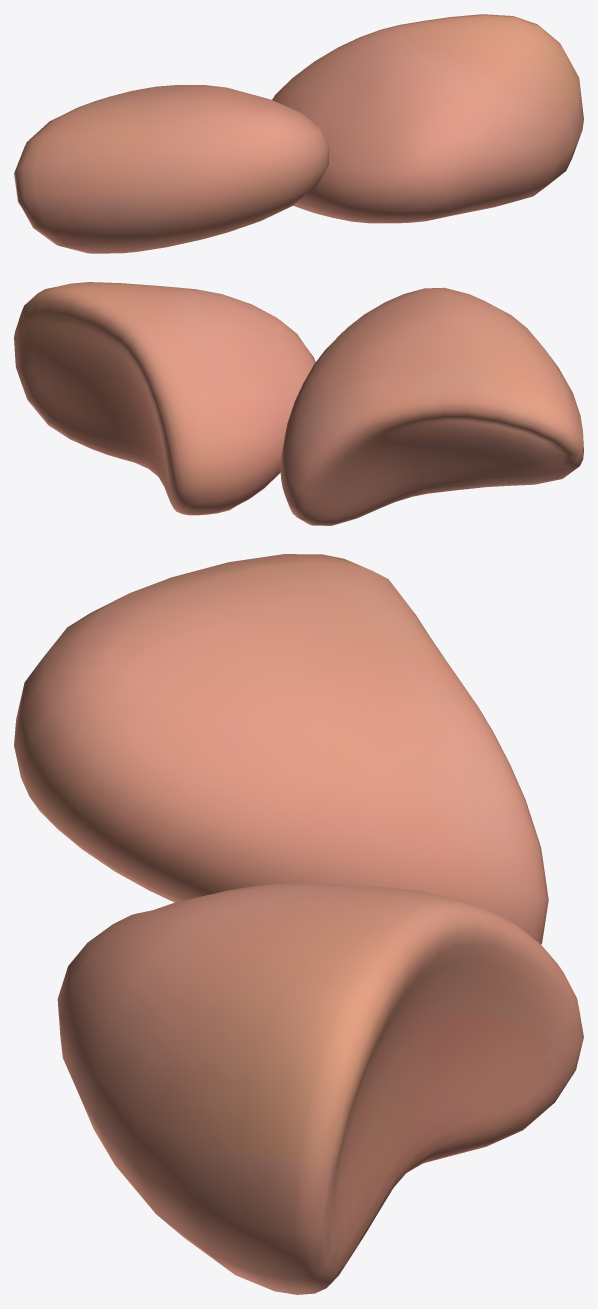
File: Adrenal_Glands.fbx
The picture shows the model from 3 angles, top to bottom: view 1: azimuth 30°, elevation 25°; view 2: azimuth 150°, elevation 25°; view 3: azimuth 270°, elevation 25°; orthographic projection. The views are drawn at different scales.
Parts seen in each view (by area): view 1: Adrenal_Glands_LOD0; view 2: Adrenal_Glands_LOD0; view 3: Adrenal_Glands_LOD0.
Part boxes in pixels (box(x1,y1,x2,y2)): Adrenal_Glands_LOD0: box(14, 14, 583, 253); Adrenal_Glands_LOD0: box(14, 282, 583, 525); Adrenal_Glands_LOD0: box(14, 554, 583, 1294).
Size of what is drawn, in the model's own units: 0.1674 by 0.0542 by 0.0777.
